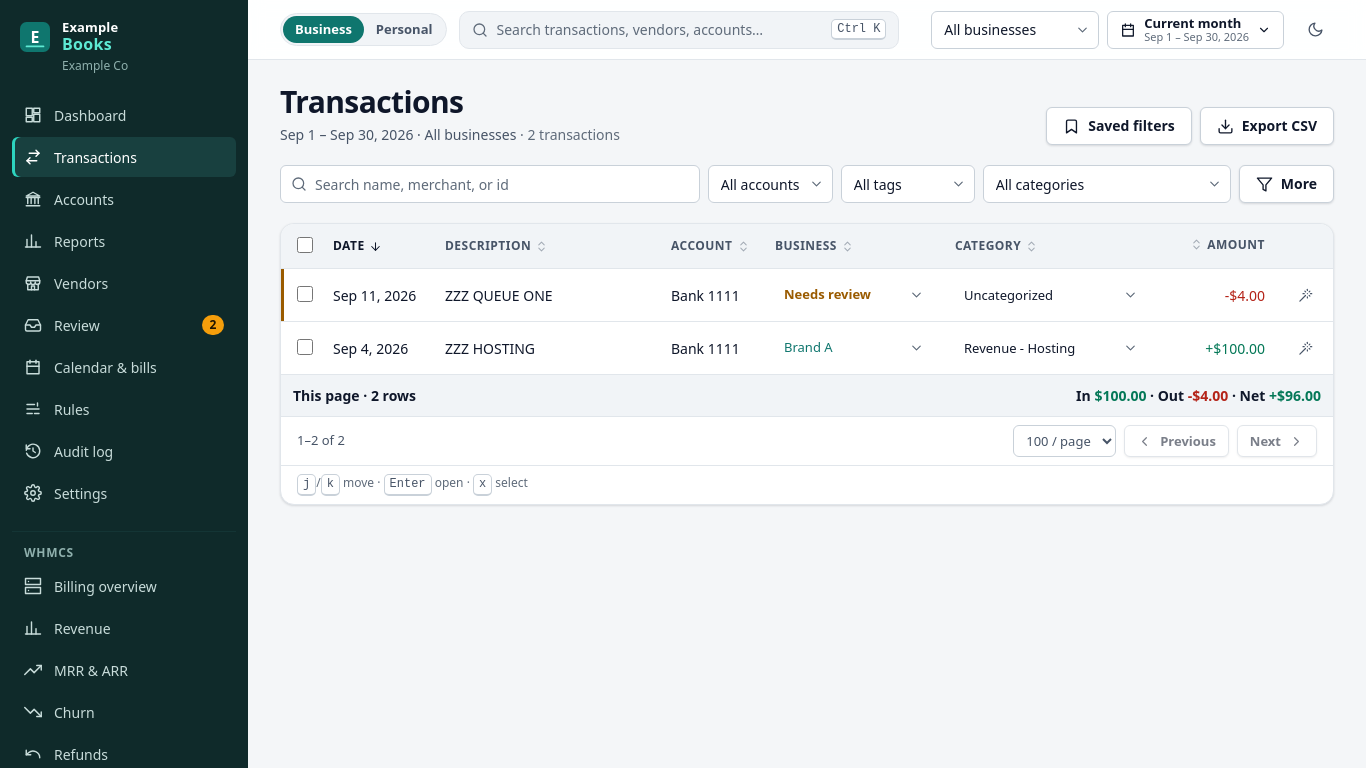
Test case: classification flows › creates a rule from a transaction with a live preview
The width and height of the screenshot is (1366, 768).
Check: the text "ZZZ QUEUE ONE" is shown, box left=445, top=286, right=553, bottom=304
Click the button named "Create rule from ZZZ QUEUE ONE" at (1305, 295), box left=1289, top=279, right=1321, bottom=311
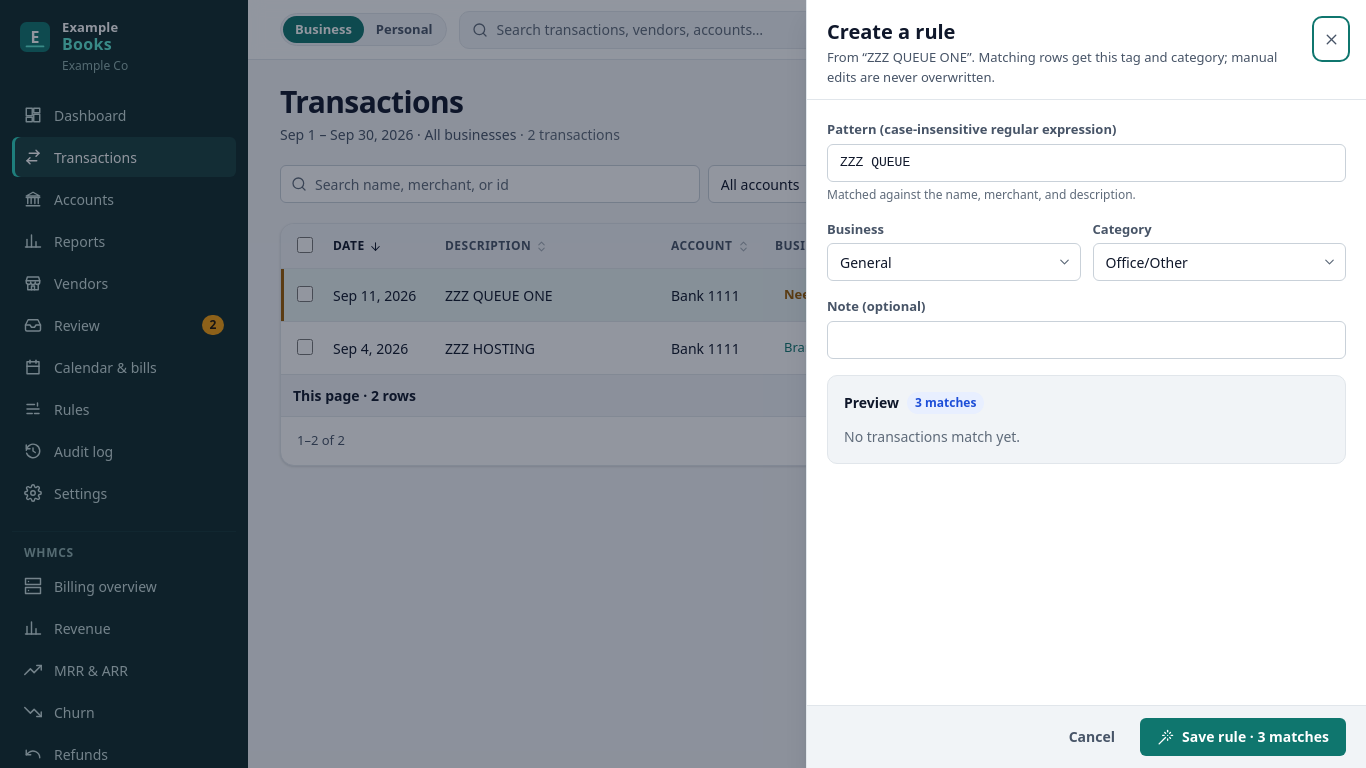
Check: the field labelled "Pattern (case-insensitive regular expression)" holds "ZZZ QUEUE", box left=827, top=144, right=1346, bottom=182
Check: the text "3 matches" is shown, box left=907, top=392, right=984, bottom=414
Click the button "Save rule · 3 matches" at (1243, 737), box left=1140, top=718, right=1346, bottom=756
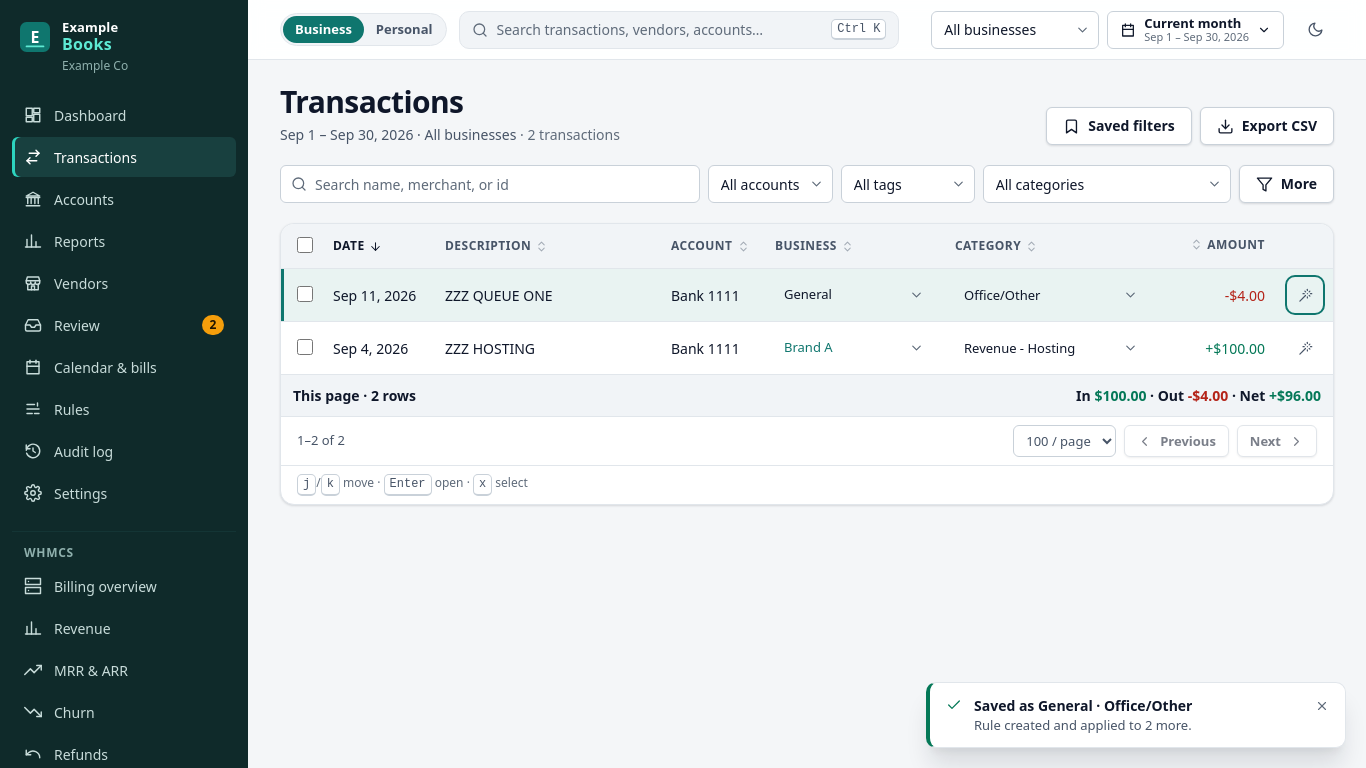
Check: the text "Rule created and applied to 2 more." is shown, box left=974, top=716, right=1192, bottom=734
